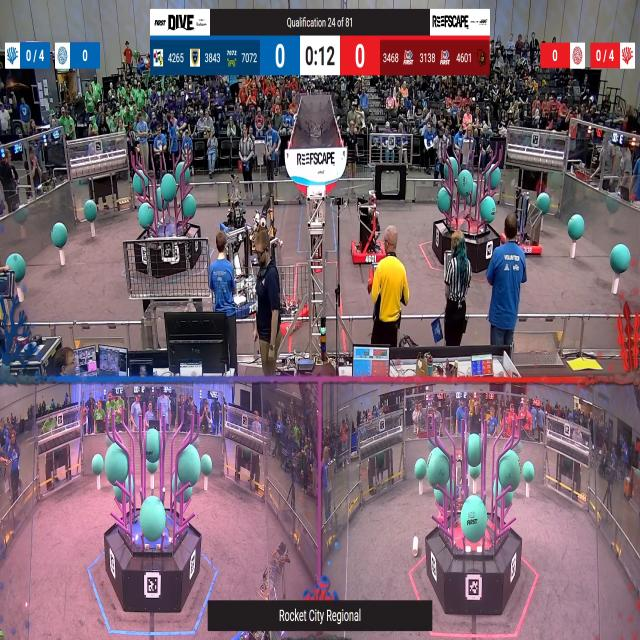scoreboard: (150, 35, 489, 76)
